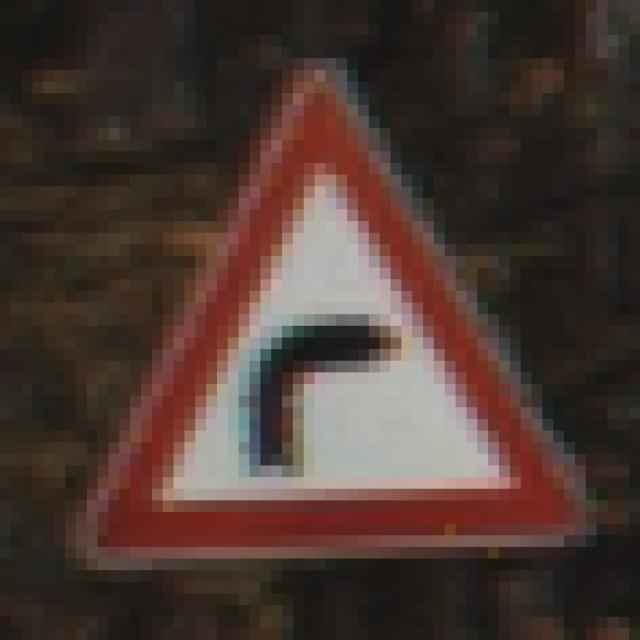right hand curve: (71, 70, 590, 545)
